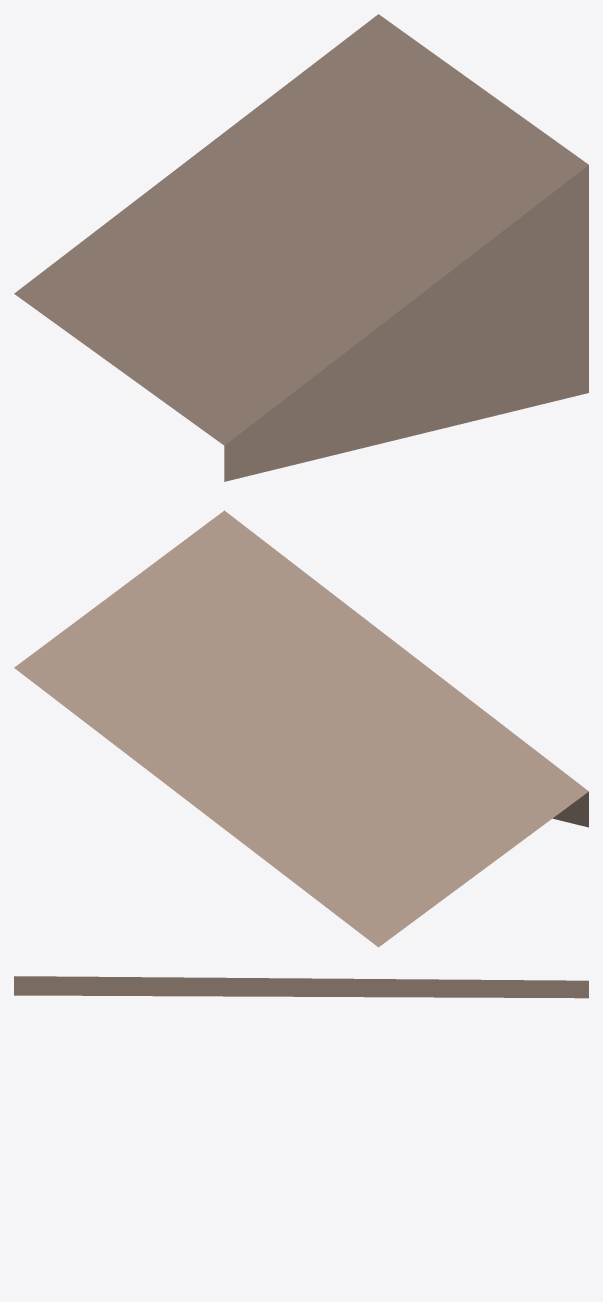
File: BD_RoofSlant_col_SideIncline.fbx
3 renders of one model, top to bottom at view 1: azimuth 30°, elevation 25°; view 2: azimuth 150°, elevation 25°; view 3: azimuth 270°, elevation 25°, orthographic. The views are drawn at different scales.
Parts seen in each view (by area): view 1: BD_RoofSlant_col_SideIncline; view 2: BD_RoofSlant_col_SideIncline; view 3: BD_RoofSlant_col_SideIncline.
Part boxes in pixels (x1=…): BD_RoofSlant_col_SideIncline: x1=14, y1=14, x2=588, y2=481; BD_RoofSlant_col_SideIncline: x1=14, y1=510, x2=588, y2=947; BD_RoofSlant_col_SideIncline: x1=14, y1=976, x2=588, y2=998.
Bounding box in the file's own units: 6 × 3.59 × 6.
